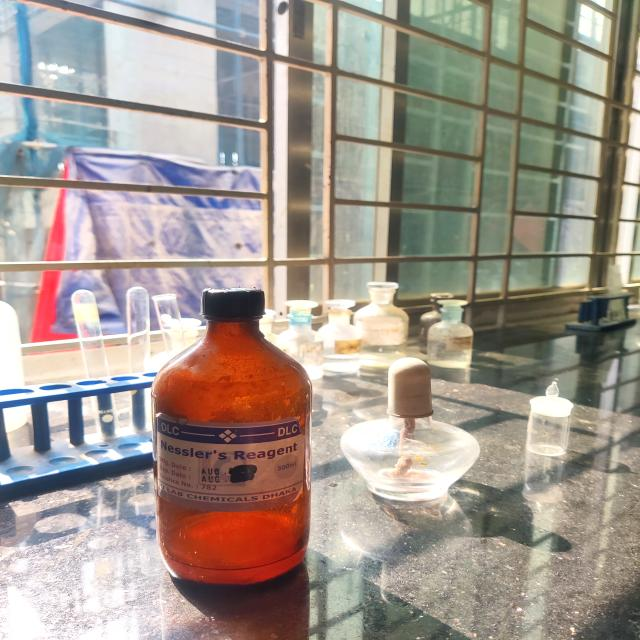Nessler_Reagent_Bottle: (130, 272, 329, 602)
Spirit_Lamp: (335, 341, 501, 523)
Weighing_Bottle: (514, 369, 602, 474)
